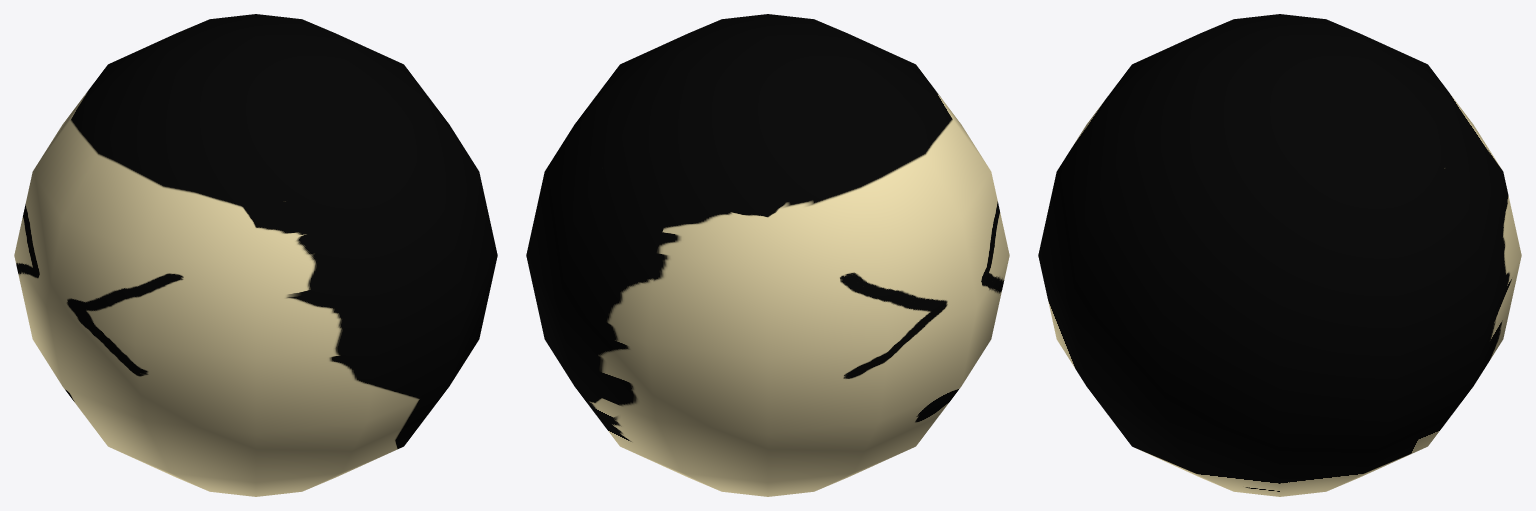
Rendered from Toy Soldier New Head.dae.
3 views of the same model, side by side, from view 1: azimuth 30°, elevation 25°; view 2: azimuth 150°, elevation 25°; view 3: azimuth 270°, elevation 25° (orthographic).
Visible parts, largest first — view 1: New Head; view 2: New Head; view 3: New Head.
Boxes of the visible parts, bbox=[...] form: New Head: bbox=[14, 14, 497, 496]; New Head: bbox=[526, 14, 1009, 496]; New Head: bbox=[1038, 14, 1521, 496].
Size of the model in its own units: 1.38 by 1.38 by 1.38.
